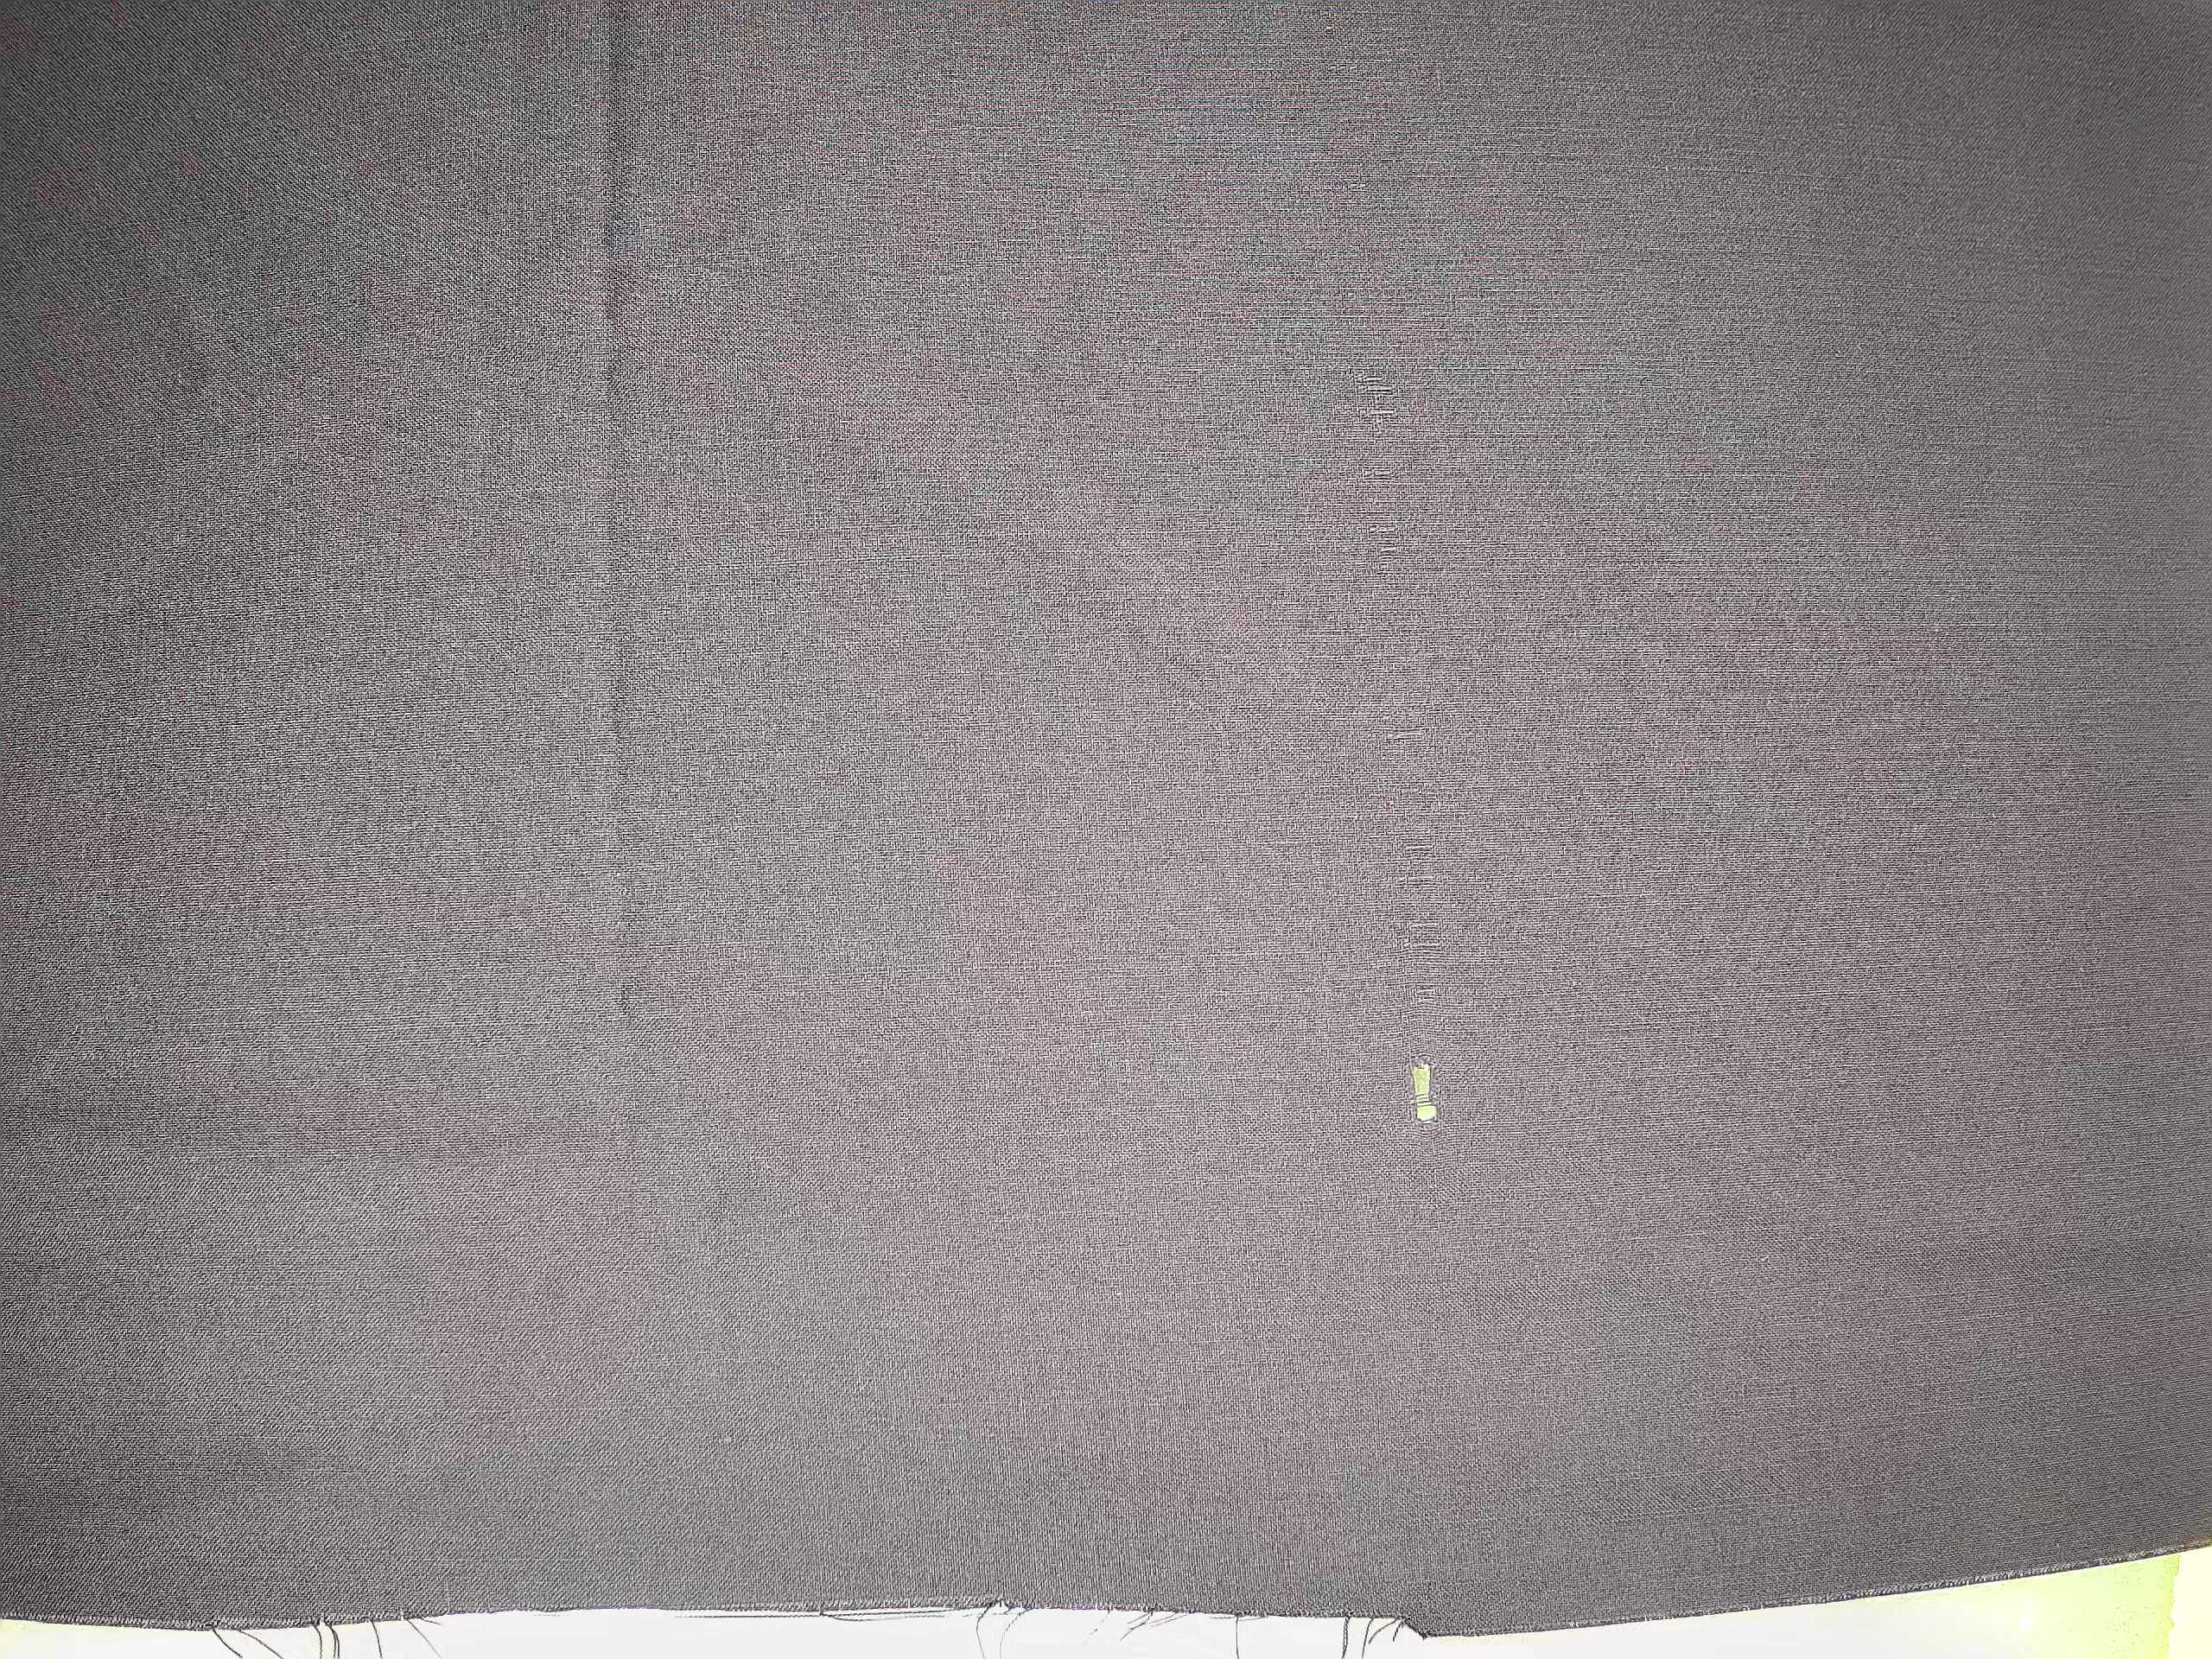others: (1367, 1025, 1477, 1161)
